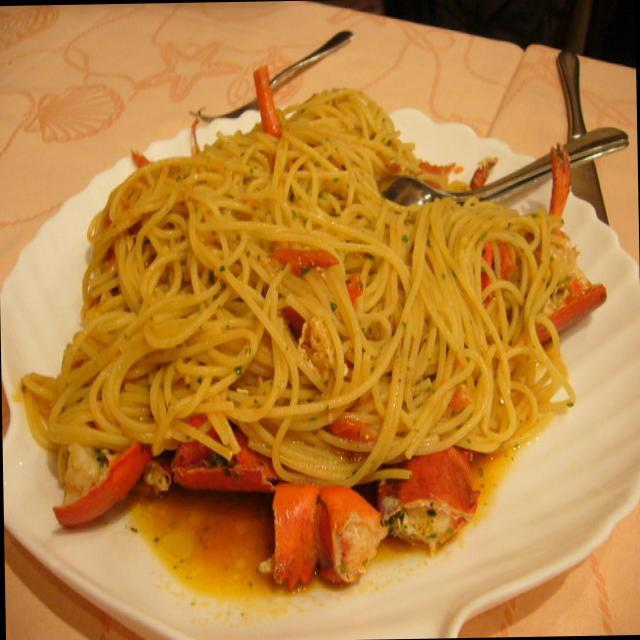Pasta: (69, 104, 572, 546)
